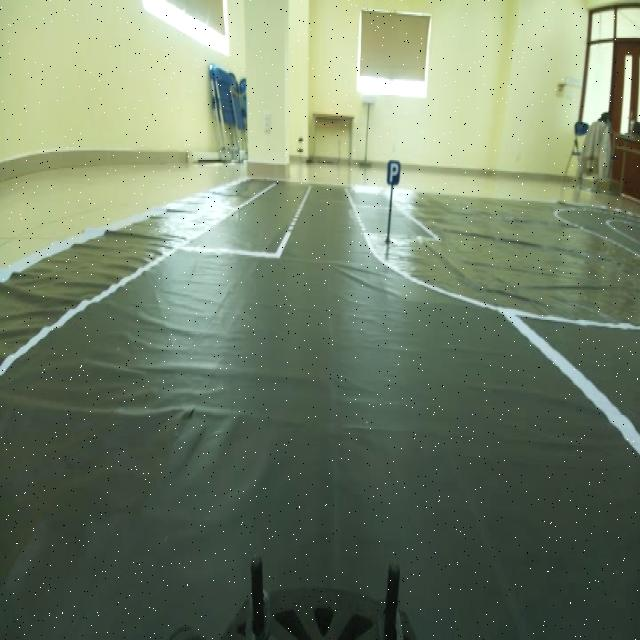parking: (384, 156, 404, 193)
